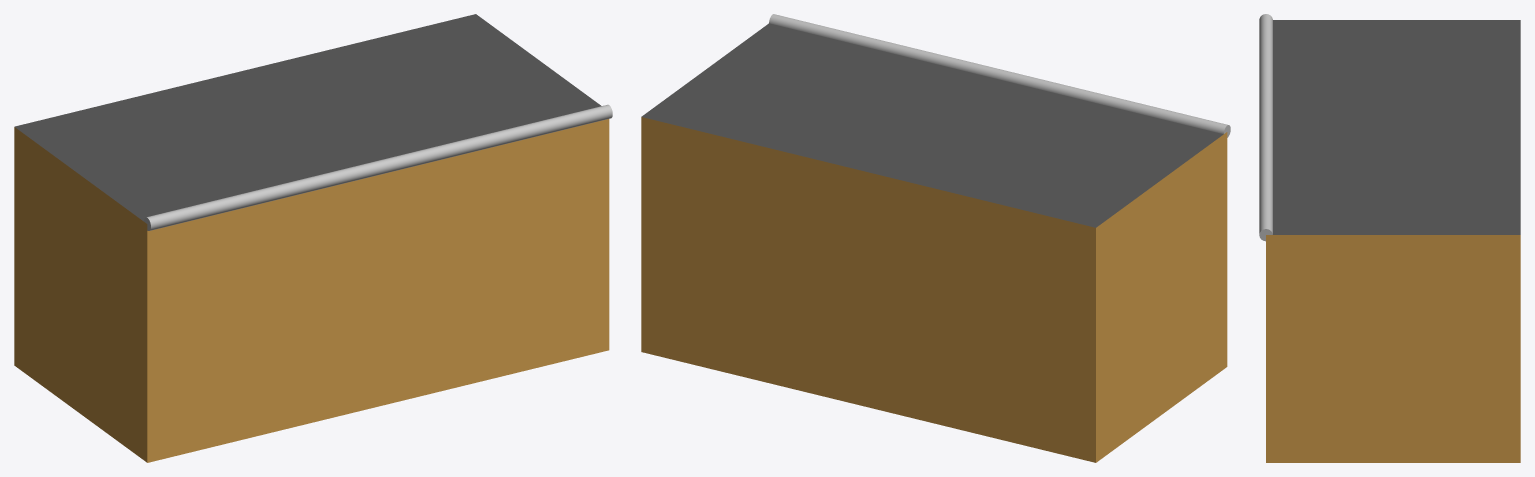
Rendered from Skate_Box_Half_Single_Rail_01.FBX.
3 views of the same model, side by side, from view 1: azimuth 30°, elevation 25°; view 2: azimuth 150°, elevation 25°; view 3: azimuth 270°, elevation 25° (orthographic). The views are drawn at different scales.
Parts seen in each view (by area): view 1: Skate_Box_Half_Single_Rail_01; view 2: Skate_Box_Half_Single_Rail_01; view 3: Skate_Box_Half_Single_Rail_01.
Boxes of the visible parts, left/top/right/bottom form: Skate_Box_Half_Single_Rail_01: left=14, top=14, right=612, bottom=462; Skate_Box_Half_Single_Rail_01: left=641, top=14, right=1230, bottom=462; Skate_Box_Half_Single_Rail_01: left=1259, top=14, right=1520, bottom=462.
Bounding box in the file's own units: 3 × 1.52 × 1.54.
